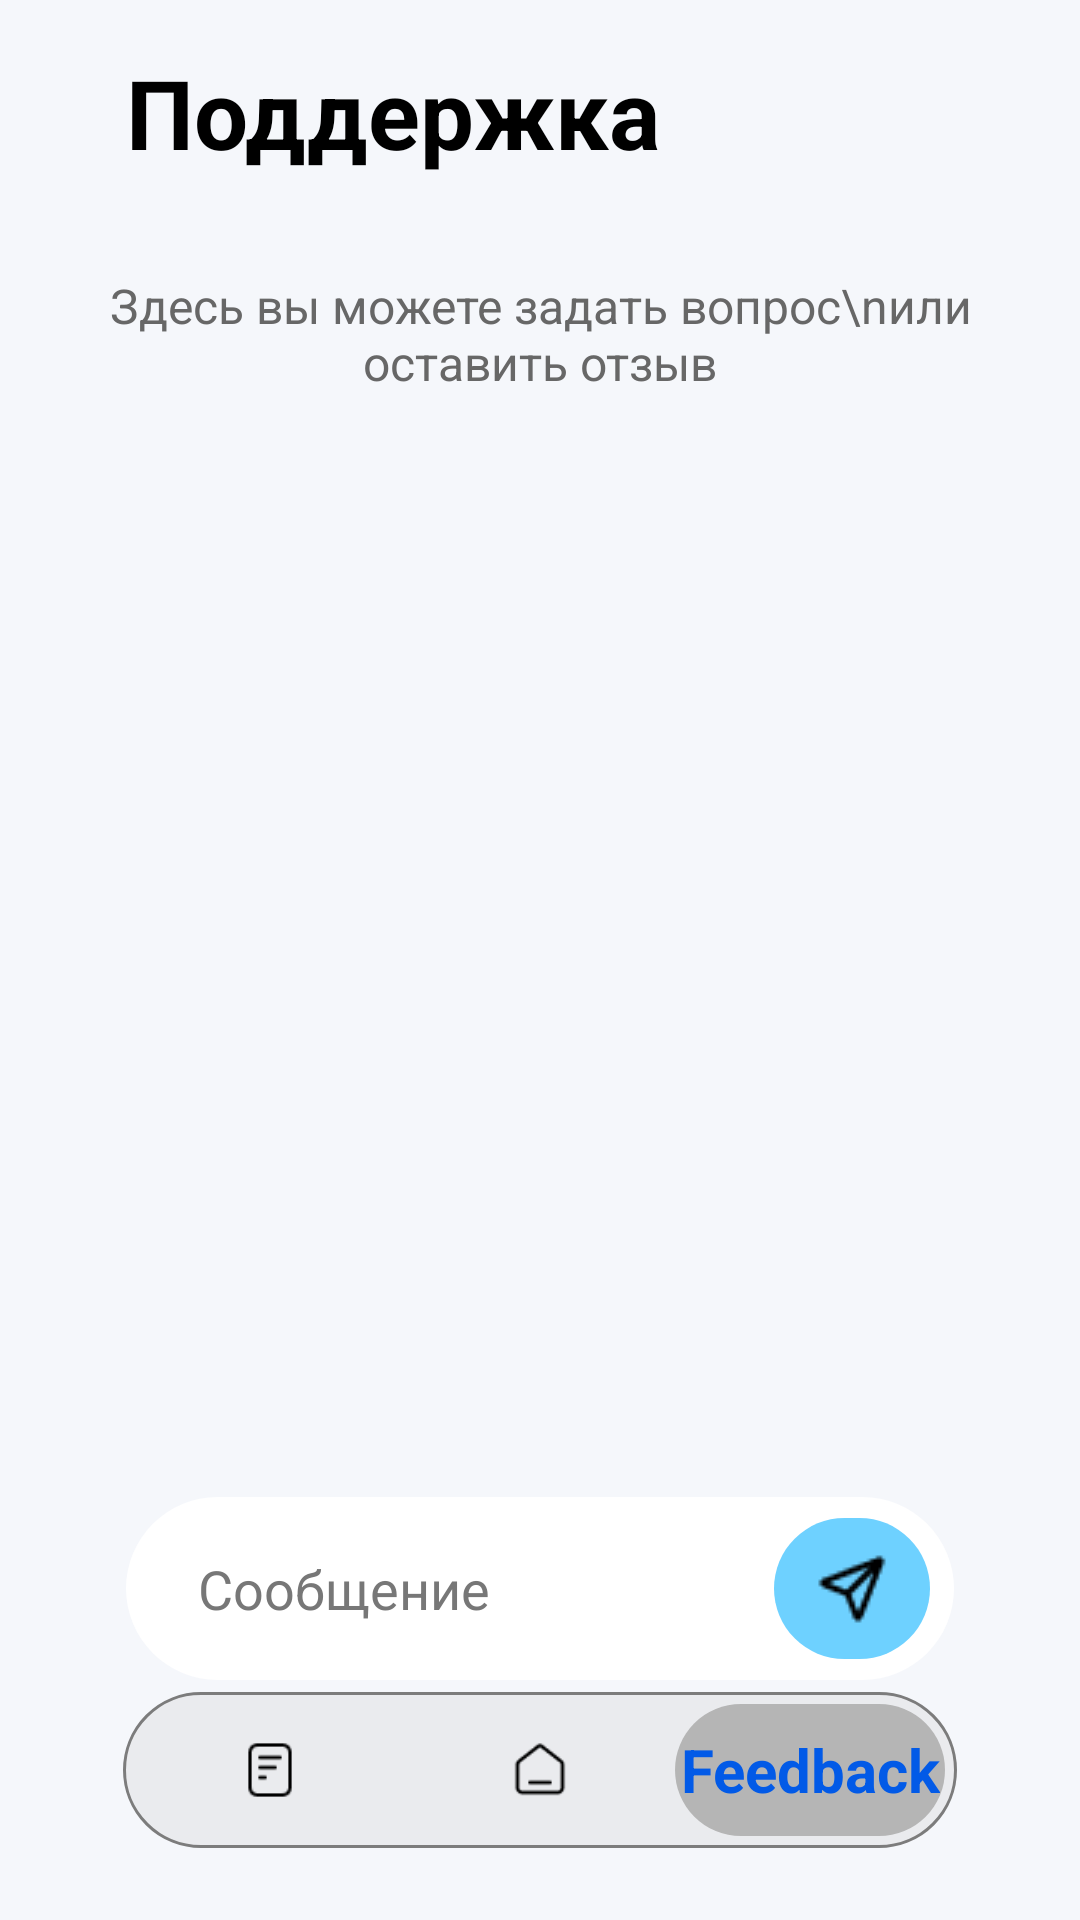

Named icons in this screenshot (1080×1920) and their bounding boxes, region(x1, y1, x2, y2):
home: region(515, 1743, 565, 1795)
Отправить: region(774, 1518, 930, 1659)
